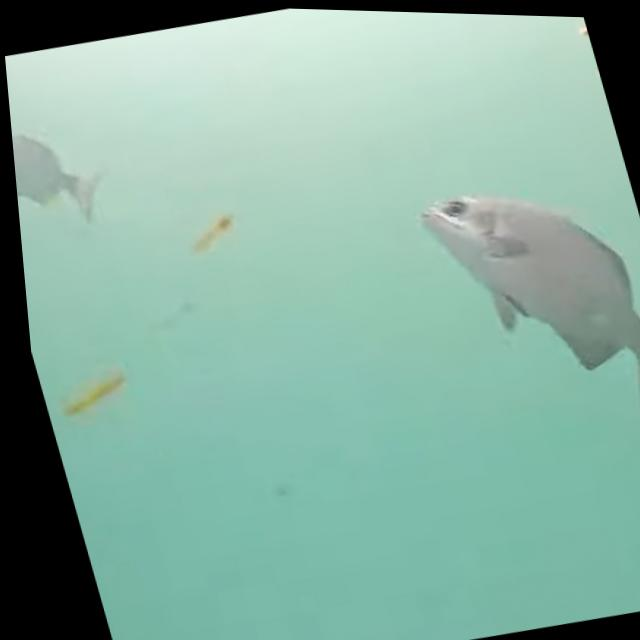fish: (397, 150, 640, 458), (8, 112, 116, 247)
